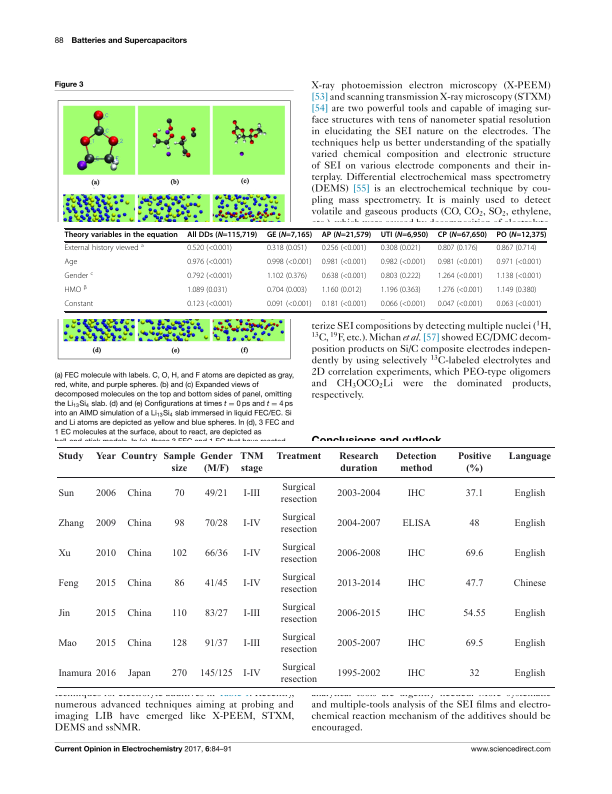borderless: (56, 446, 555, 687), (63, 227, 546, 311)
cell: (64, 231, 179, 240), (63, 242, 145, 254), (395, 452, 437, 475), (338, 452, 379, 475), (279, 512, 318, 536), (279, 483, 318, 506), (279, 542, 318, 565), (279, 572, 318, 595), (279, 602, 318, 625), (279, 632, 318, 655), (279, 662, 318, 685), (457, 452, 492, 475), (162, 452, 196, 475), (199, 452, 233, 475), (186, 231, 258, 240), (239, 452, 264, 475), (336, 518, 381, 530), (275, 452, 322, 463), (507, 452, 552, 463), (336, 489, 381, 500), (336, 548, 381, 559), (336, 578, 381, 589), (336, 608, 381, 619), (336, 638, 381, 649), (336, 668, 381, 679), (186, 244, 233, 254), (186, 258, 233, 268), (495, 258, 542, 268), (186, 272, 233, 282), (495, 272, 542, 282), (186, 300, 233, 310), (495, 300, 542, 310), (495, 231, 547, 240), (321, 244, 367, 254), (266, 258, 312, 268), (321, 258, 367, 268), (380, 258, 426, 268), (437, 258, 483, 268), (321, 272, 367, 282), (437, 272, 483, 282), (437, 286, 483, 296), (266, 300, 312, 310), (321, 300, 367, 310), (380, 300, 426, 310), (437, 300, 483, 310), (321, 231, 372, 240), (437, 231, 488, 240), (380, 231, 429, 240), (266, 231, 313, 240), (266, 244, 308, 254), (380, 244, 422, 254), (437, 244, 479, 254), (495, 244, 537, 254), (266, 272, 308, 282), (380, 272, 422, 282), (186, 286, 228, 296), (266, 286, 308, 296), (380, 286, 422, 296), (495, 286, 537, 296), (120, 452, 158, 463), (321, 286, 362, 296), (513, 518, 546, 530), (512, 578, 547, 589), (57, 668, 92, 679), (199, 668, 233, 679), (513, 489, 546, 500), (513, 548, 546, 559), (513, 608, 546, 619), (513, 638, 546, 649), (513, 668, 546, 679), (401, 518, 431, 530), (64, 270, 94, 282), (57, 518, 85, 530), (126, 518, 152, 530), (64, 300, 94, 310), (57, 452, 84, 463), (204, 518, 228, 530), (64, 284, 88, 296), (126, 489, 152, 500), (126, 548, 152, 559), (126, 578, 152, 589), (126, 608, 152, 619), (126, 638, 152, 649), (204, 489, 228, 500), (95, 518, 117, 530), (204, 548, 228, 559), (204, 578, 228, 589), (204, 608, 228, 619), (462, 608, 486, 619), (204, 638, 228, 649), (127, 668, 151, 679), (95, 452, 117, 463), (94, 489, 116, 500), (94, 548, 116, 559), (57, 578, 79, 589), (95, 578, 117, 589), (95, 608, 117, 619), (95, 638, 117, 649), (95, 668, 117, 679), (242, 518, 261, 530), (406, 489, 426, 500), (464, 489, 484, 500), (406, 548, 426, 559), (464, 548, 484, 559), (406, 578, 426, 589), (464, 578, 484, 589), (406, 608, 426, 619), (57, 638, 77, 649), (406, 638, 426, 649), (464, 638, 484, 649), (406, 668, 426, 679), (242, 489, 261, 500), (242, 548, 261, 559), (242, 578, 261, 589), (242, 608, 261, 619), (242, 638, 261, 649), (242, 668, 261, 679), (57, 489, 75, 500), (171, 548, 188, 559), (171, 638, 188, 649), (171, 668, 188, 679), (171, 608, 187, 619), (57, 548, 71, 559), (57, 608, 71, 619), (173, 518, 185, 530), (468, 518, 480, 530), (64, 258, 78, 268), (173, 489, 185, 500), (173, 578, 185, 589), (468, 668, 480, 679)
